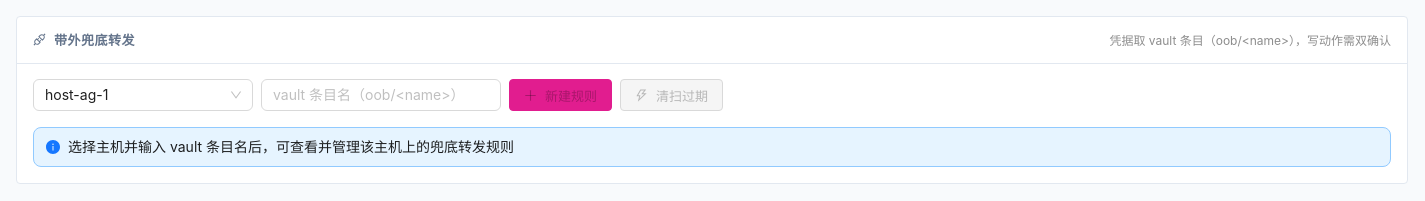
Oob › 列表读取失败：告警（不落错误文案）
Type "r2s" into the field with placeholder "vault 条目名（oob/<name>）". click: (373, 95)
box: [273,84,473,106]
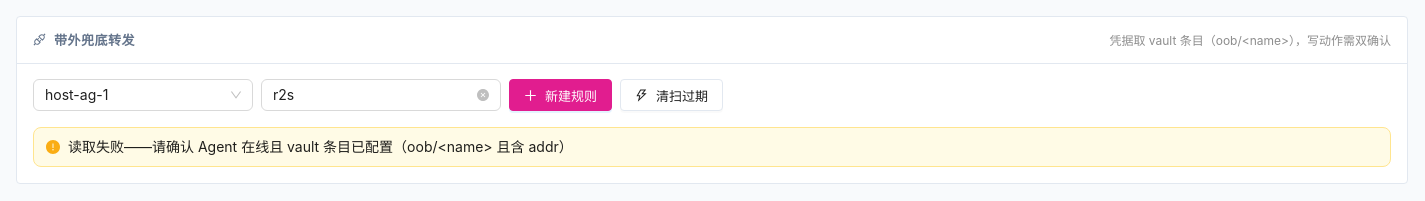
Expected: the text "读取失败——请确认 Agent 在线且 vault 条目已配置（oob/<name> 且含 addr）" is shown, [68,138,573,155]
